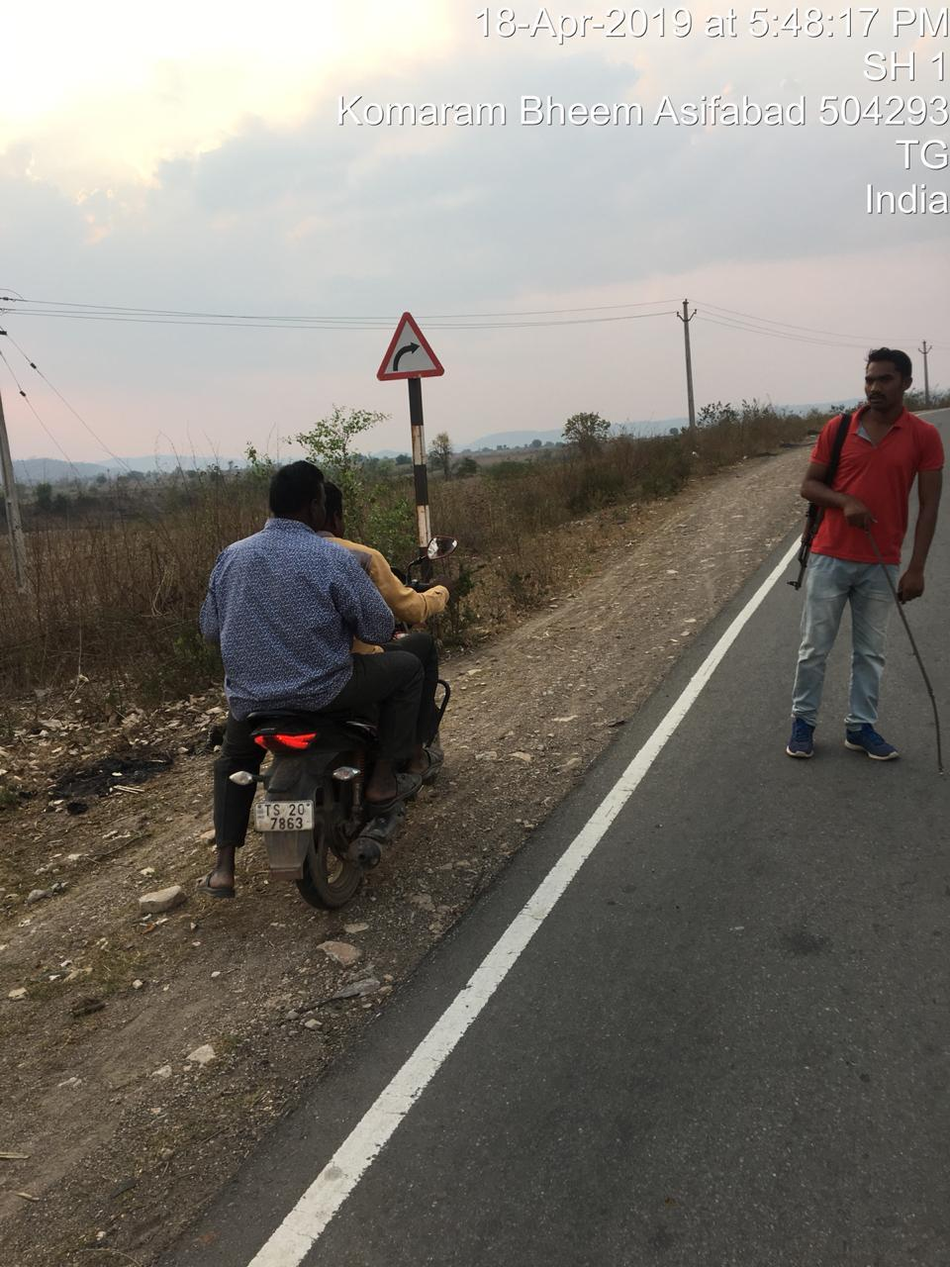plate: (249, 792, 333, 844)
